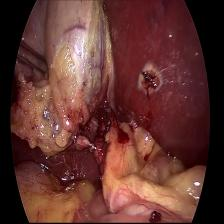Grasper: (17, 34, 54, 87)
